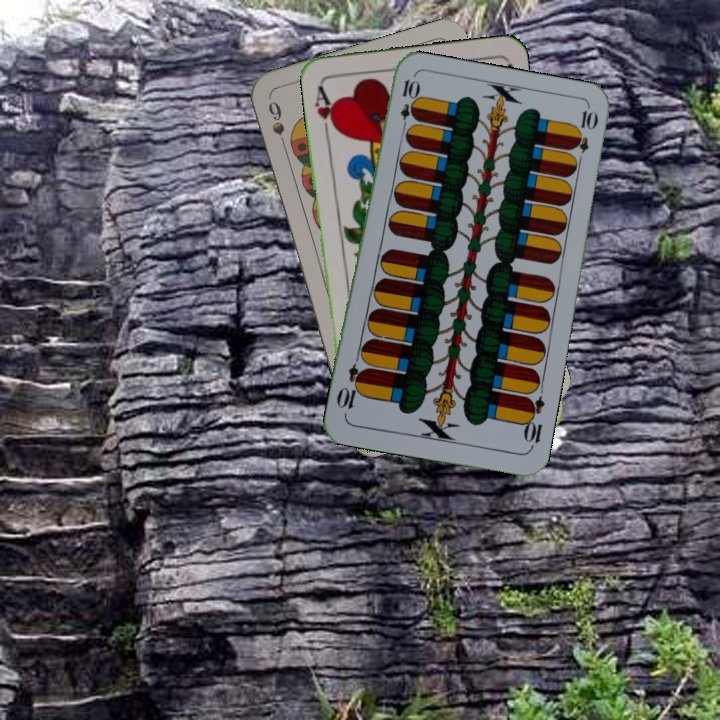E10: (519, 393, 547, 452), (396, 75, 419, 135)
HA: (310, 82, 340, 139)
S9: (264, 96, 290, 154)
